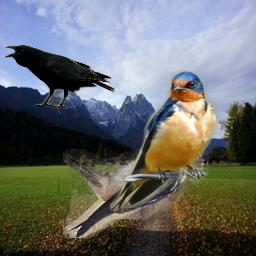Crow: (5, 45, 115, 109)
Swallow: (110, 70, 218, 211), (63, 144, 209, 238)
